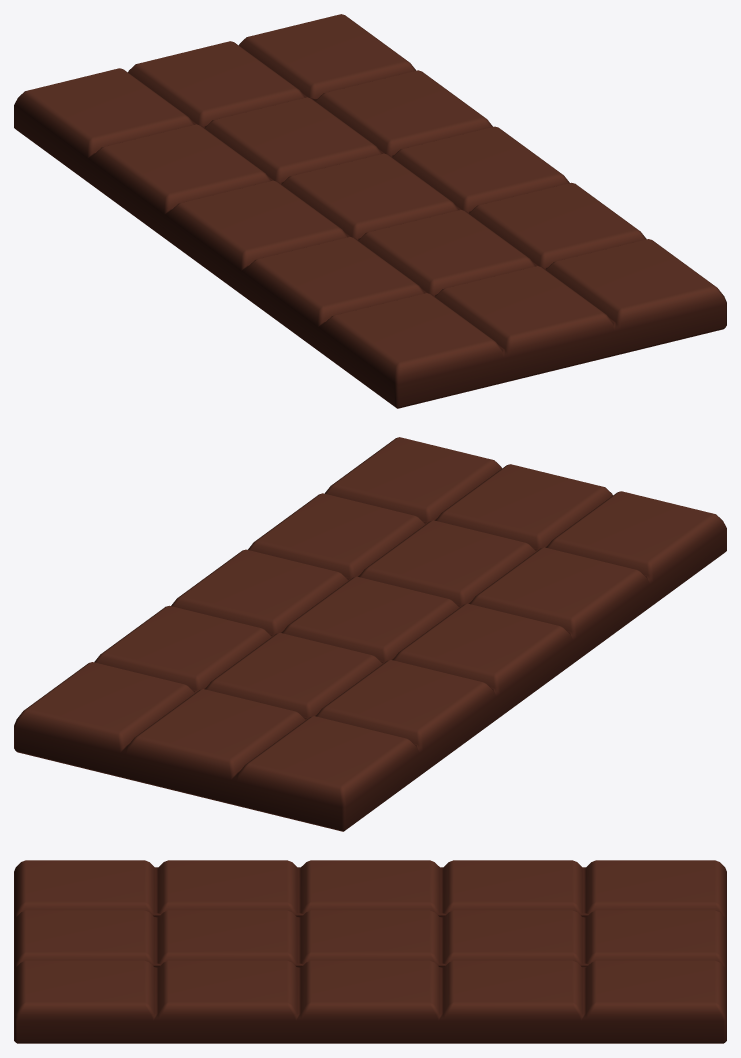
Rendered from Chocolate_02.glb.
The picture shows the model from 3 angles, top to bottom: view 1: azimuth 30°, elevation 25°; view 2: azimuth 150°, elevation 25°; view 3: azimuth 270°, elevation 25°; orthographic projection. The views are drawn at different scales.
Parts seen in each view (by area): view 1: Chocolate_02; view 2: Chocolate_02; view 3: Chocolate_02.
Boxes of the visible parts, left/top/right/bottom form: Chocolate_02: left=14, top=14, right=726, bottom=408; Chocolate_02: left=14, top=437, right=726, bottom=831; Chocolate_02: left=14, top=860, right=726, bottom=1043.
Bounding box in the file's own units: 4.5 × 0.5408 × 9.
Materials: 1 (1 with a texture image).
